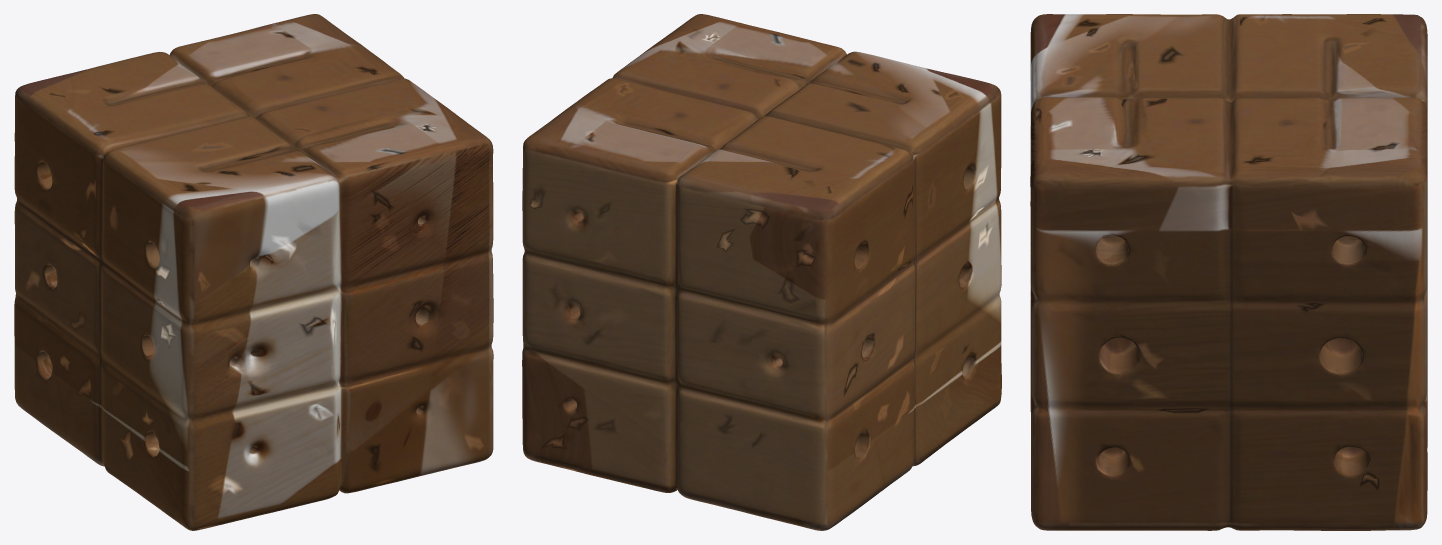
The picture shows the model from 3 angles, left to right: view 1: azimuth 30°, elevation 25°; view 2: azimuth 150°, elevation 25°; view 3: azimuth 270°, elevation 25°; orthographic projection. The views are drawn at different scales.
Bounding box in the file's own units: 2.01 × 2 × 2.
Materials: 1 (1 with a texture image).
